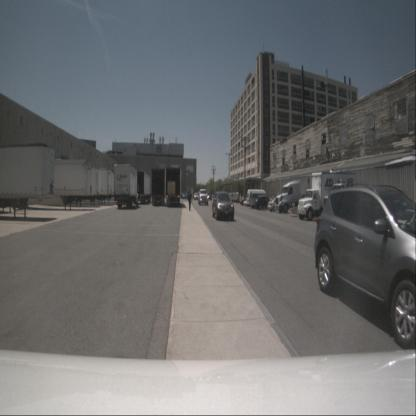human-pedestrian-adult: (188, 190, 192, 210)
vehicle-car: (314, 182, 416, 350), (212, 191, 235, 223), (246, 188, 269, 207), (267, 197, 289, 212), (255, 196, 275, 210), (227, 190, 244, 202), (198, 189, 208, 206), (193, 192, 199, 200)
vehicle-truck: (298, 173, 358, 218), (279, 178, 301, 212), (135, 171, 150, 202)
